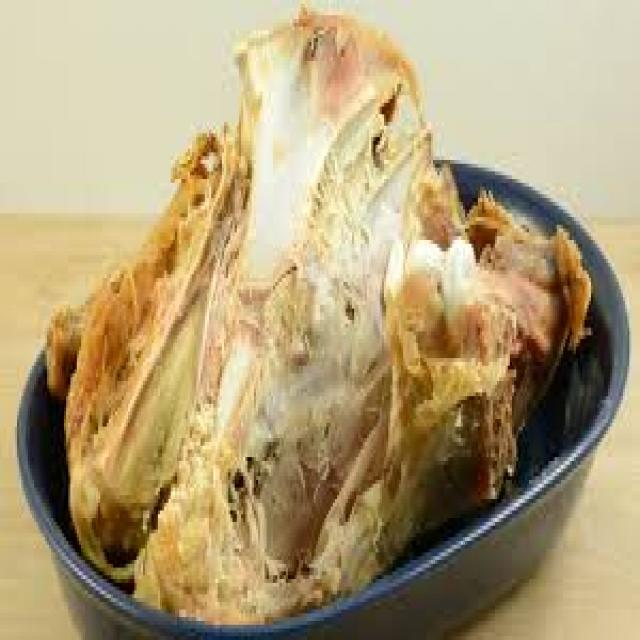organic waste: (132, 0, 463, 621), (307, 183, 591, 602), (41, 129, 228, 583)
